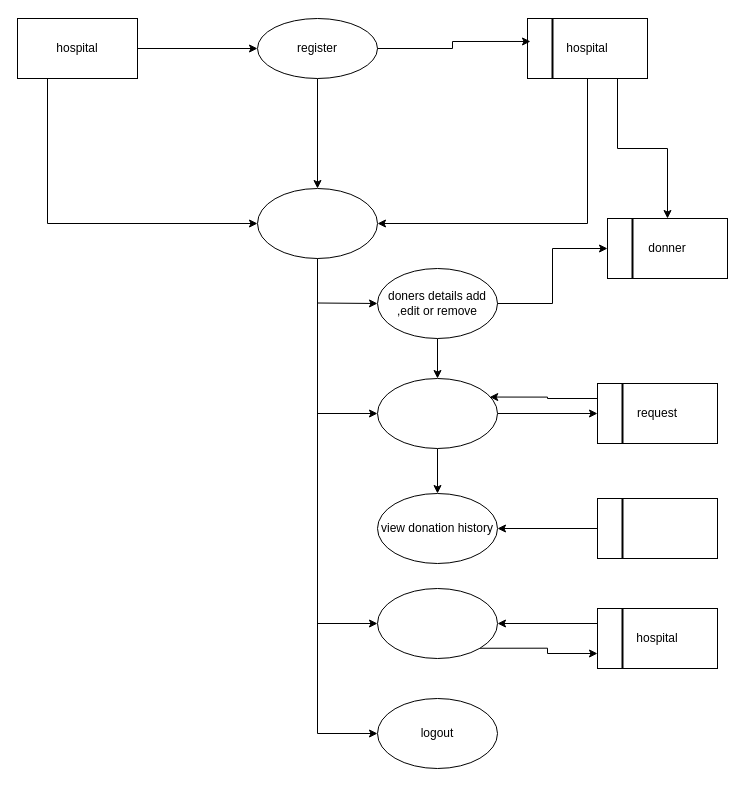
This 745x786 diagram has some shape labels left out. The shapes that lost their labels are listed below. From the top down, each one's box as (x1, y1, x2, y2) in pixels, then its label:
(256, 188, 378, 258): login
(376, 378, 498, 448): view request reciever accept or reject
(596, 498, 718, 558): history
(376, 588, 498, 658): view or edit profile
